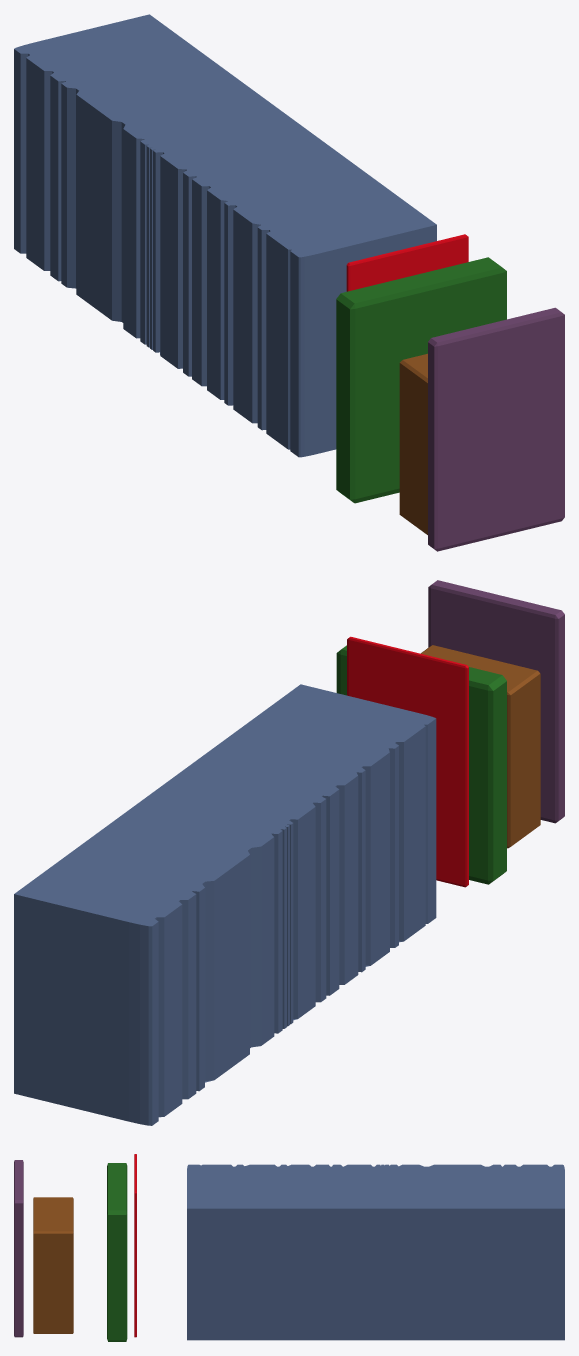
The model's file is Books.fbx.
The picture shows the model from 3 angles, top to bottom: view 1: azimuth 30°, elevation 25°; view 2: azimuth 150°, elevation 25°; view 3: azimuth 270°, elevation 25°; orthographic projection. The views are drawn at different scales.
Visible parts, largest first — view 1: Cube, Cube.004, Cube.002, Cube.003, Cube.001; view 2: Cube, Cube.004, Cube.001, Cube.002, Cube.003; view 3: Cube, Cube.003, Cube.002, Cube.004, Cube.001.
Part boxes in pixels (x1,y1,x2,y2): Cube: (14, 14, 436, 457); Cube.004: (428, 307, 564, 551); Cube.002: (336, 257, 506, 503); Cube.003: (399, 353, 427, 534); Cube.001: (346, 234, 468, 291); Cube: (14, 684, 436, 1125); Cube.004: (428, 580, 564, 823); Cube.001: (347, 636, 468, 887); Cube.002: (336, 645, 506, 884); Cube.003: (421, 645, 540, 848); Cube: (187, 1164, 564, 1340); Cube.003: (33, 1197, 73, 1333); Cube.002: (107, 1163, 127, 1341); Cube.004: (14, 1160, 23, 1337); Cube.001: (134, 1154, 136, 1337).
Bounding box in the file's own units: 164 × 222 × 759.
